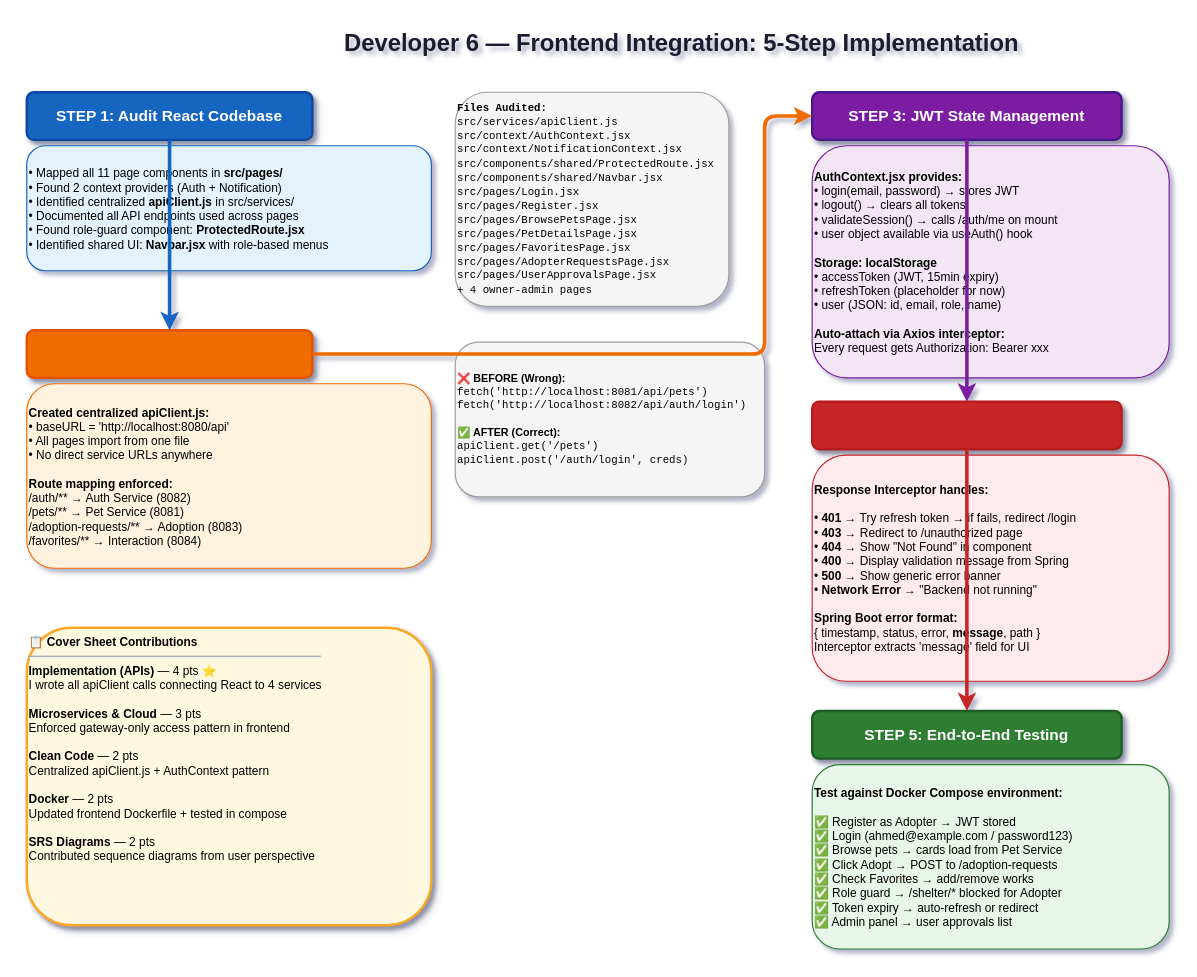
The diagram is 1197 pixels wide and 977 high, and some of its shapes have lost their labels. Here are the shapes that lost their labels. From the top down, the centre of each, then its label:
point 170,355: STEP 2: Refactor API Calls
point 967,426: STEP 4: Error Handling
